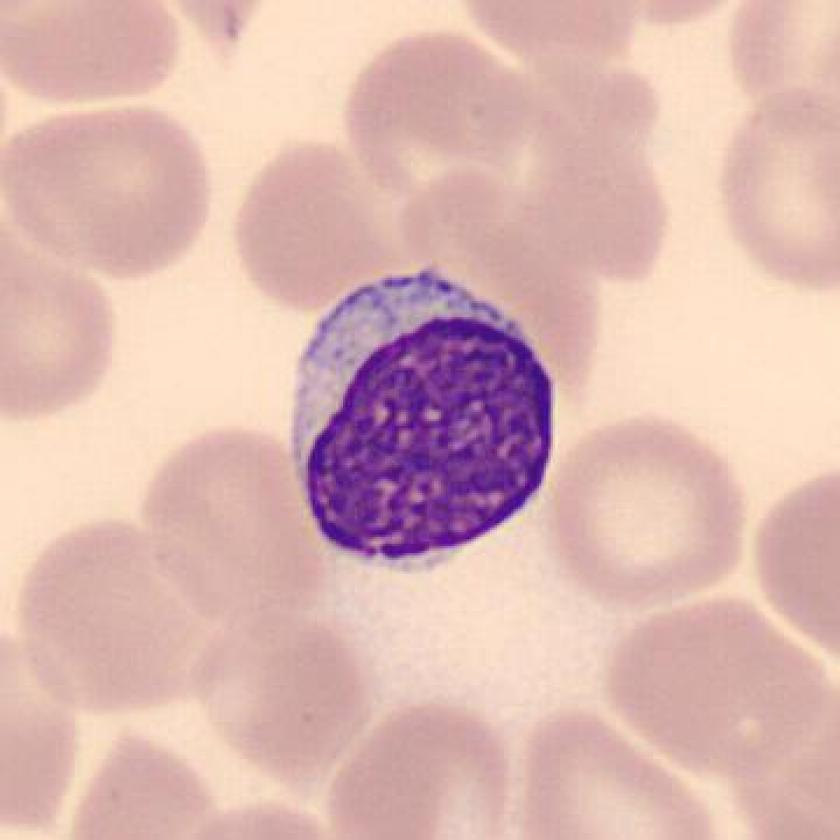lymphocyte: (269, 251, 580, 593)
